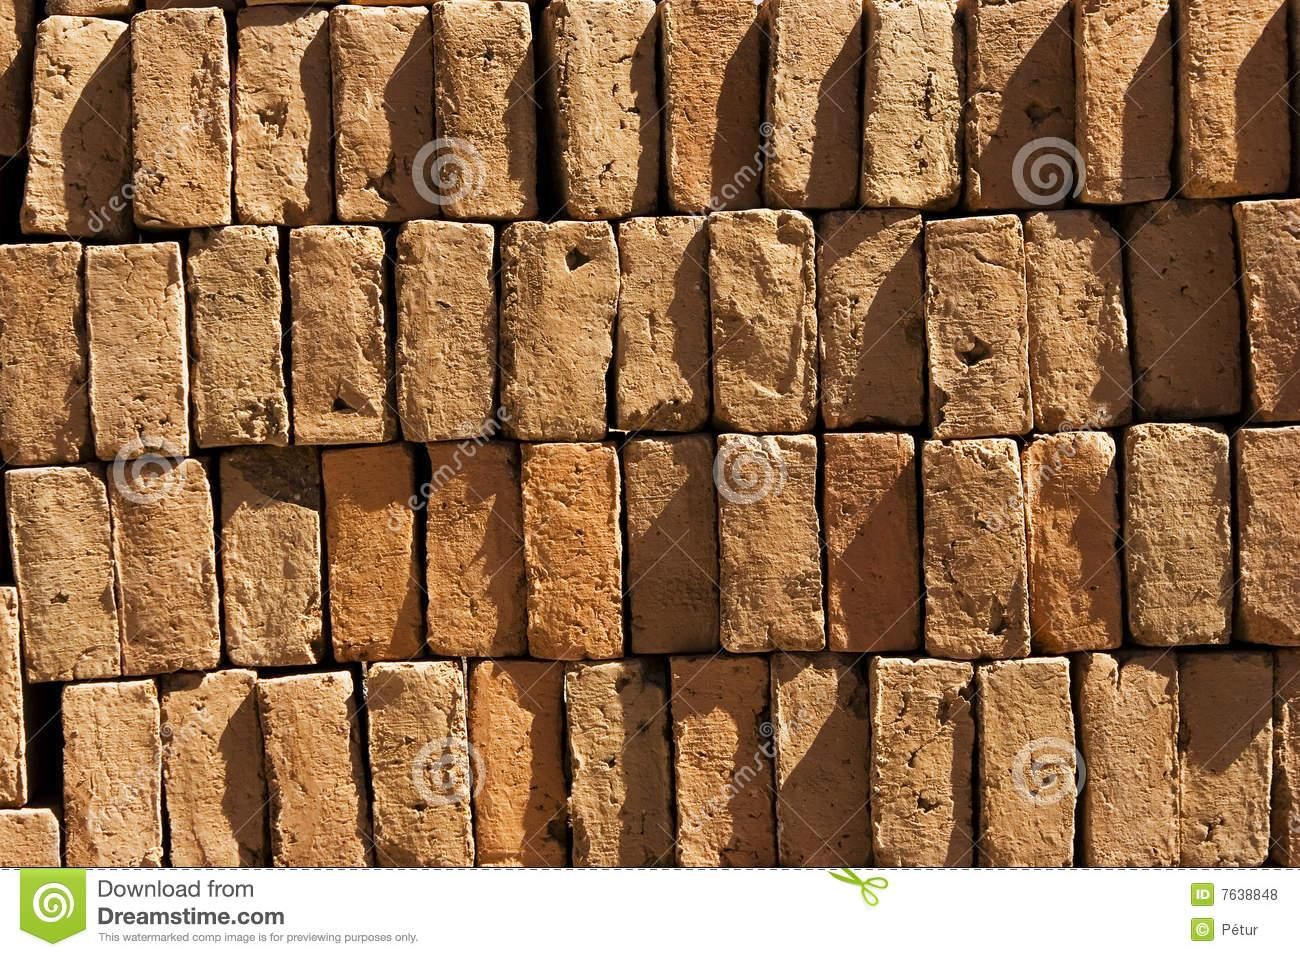brick: (503, 221, 621, 438), (544, 0, 659, 221), (5, 468, 120, 683), (1124, 422, 1233, 647), (107, 459, 219, 676), (717, 433, 827, 652), (287, 224, 396, 444), (18, 15, 127, 233), (1128, 202, 1239, 416), (711, 209, 817, 433), (926, 214, 1032, 437), (924, 439, 1031, 659), (1024, 211, 1130, 429), (329, 4, 434, 223), (364, 660, 473, 868), (187, 226, 289, 447), (819, 210, 922, 428), (566, 660, 674, 867), (86, 241, 188, 460), (257, 670, 370, 867), (1021, 432, 1122, 651), (397, 220, 497, 440), (965, 0, 1071, 207), (220, 451, 322, 666), (436, 1, 537, 218), (521, 442, 621, 660), (131, 9, 232, 224), (872, 656, 974, 867), (1179, 0, 1288, 196), (823, 433, 919, 652), (671, 659, 773, 866), (978, 656, 1077, 869), (771, 654, 870, 866), (323, 446, 420, 660), (624, 436, 720, 652), (235, 5, 329, 224), (1082, 652, 1178, 866), (1176, 653, 1272, 866), (427, 442, 522, 656), (662, 0, 758, 211), (862, 0, 959, 208), (161, 669, 260, 865), (0, 241, 87, 464), (1077, 0, 1173, 202), (767, 0, 860, 208), (471, 661, 565, 865), (63, 679, 164, 868), (619, 216, 709, 428), (1233, 197, 1300, 420), (1239, 425, 1300, 647)
